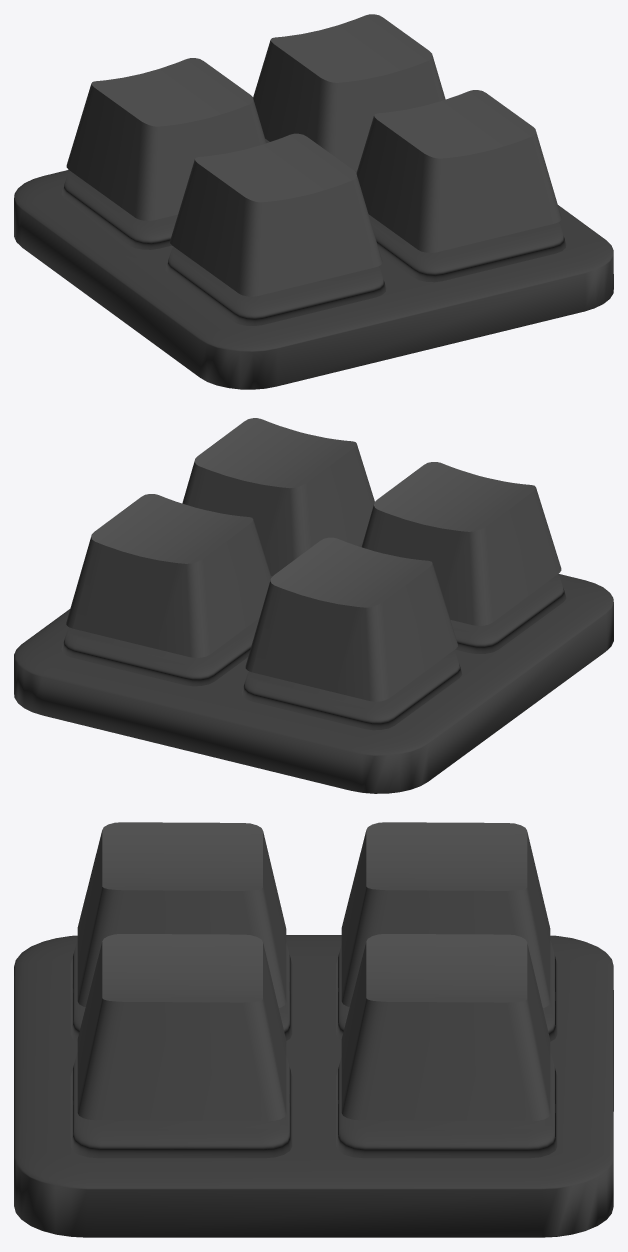
The model's file is keyboard_animations.glb.
3 views of the same model, one above another, from view 1: azimuth 30°, elevation 25°; view 2: azimuth 150°, elevation 25°; view 3: azimuth 270°, elevation 25° (orthographic). The views are drawn at different scales.
Parts seen in each view (by area): view 1: Base, Key1, Key4, Key2, Key3, base4.001; view 2: Base, Key2, Key3, Key1, Key4, base4.001; view 3: Base, Key3, Key4, Key1, Key2, base4.001.
Boxes of the visible parts, bbox=[...] form: Base: bbox=[14, 170, 613, 389]; Key1: bbox=[170, 133, 382, 296]; Key4: bbox=[356, 90, 561, 252]; Key2: bbox=[66, 58, 266, 220]; Key3: bbox=[253, 14, 445, 171]; base4.001: bbox=[61, 139, 566, 325]; Base: bbox=[14, 574, 613, 793]; Key2: bbox=[245, 537, 457, 701]; Key3: bbox=[66, 494, 271, 657]; Key1: bbox=[361, 462, 561, 625]; Key4: bbox=[182, 418, 374, 576]; base4.001: bbox=[61, 542, 566, 730]; Base: bbox=[14, 935, 613, 1237]; Key3: bbox=[341, 934, 550, 1121]; Key4: bbox=[77, 934, 286, 1121]; Key1: bbox=[77, 822, 286, 1007]; Key2: bbox=[341, 822, 550, 1007]; base4.001: bbox=[70, 940, 557, 1158].
Size of the model in its own units: 1.31 by 0.4968 by 1.31.
Materials: 9 (1 with a texture image).
